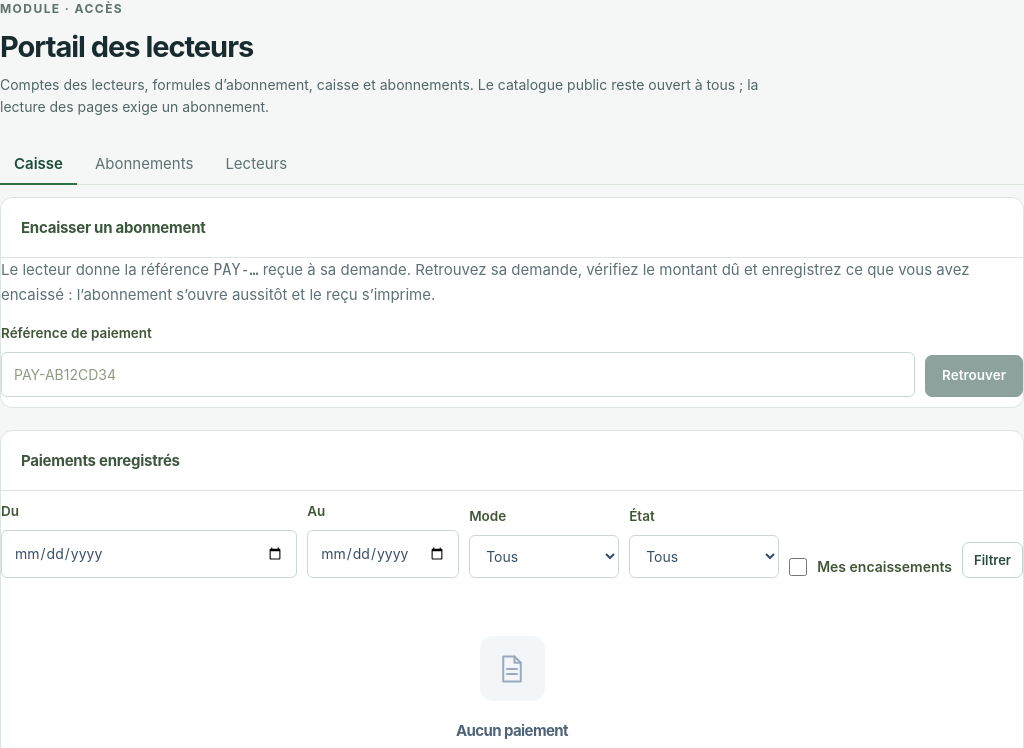
Test: la caisse refuse une référence mal écrite sans interroger le serveur, et retrouve l’abonnement par sa référence
This screenshot has width=1024, height=748.
In the field labelled "Référence de paiement": (458, 374) [1, 352, 915, 397], type "pay-123"
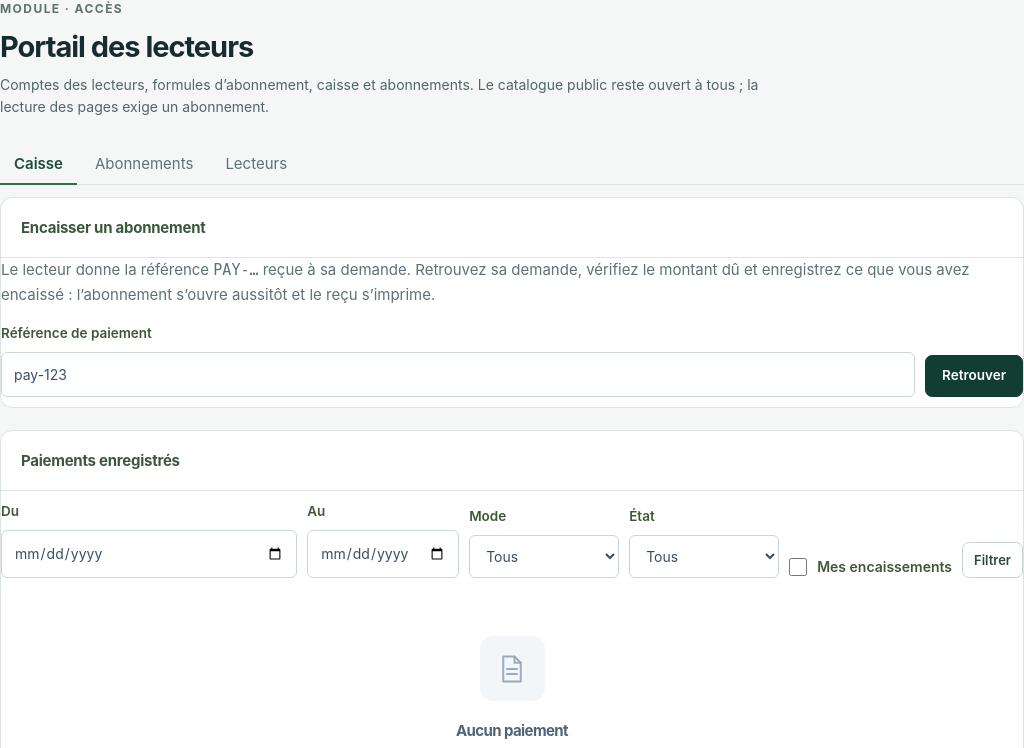
Click the button "Retrouver": (974, 376) [925, 355, 1023, 397]
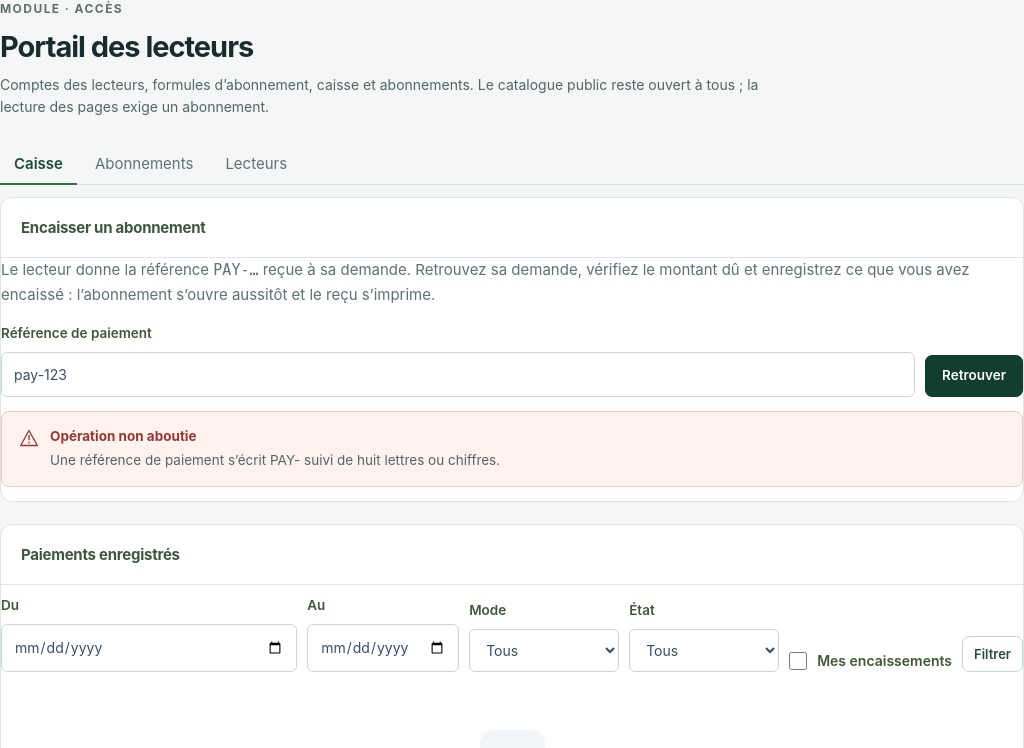
Expected: the text "PAY- suivi de huit lettres ou chiffres" is shown, [50, 452, 500, 468]
Replace the text in the field labelled "Référence de paiement" with " pay-abcdefgh ": (458, 374) [1, 352, 915, 397]
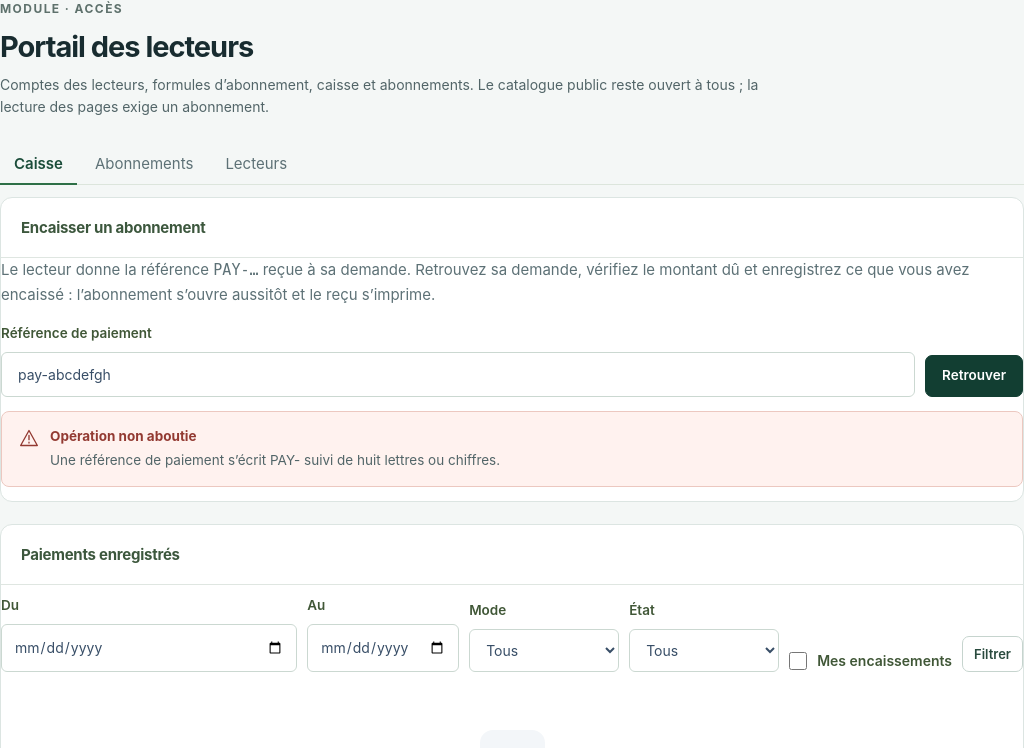
Click the button "Retrouver": (974, 376) [925, 355, 1023, 397]
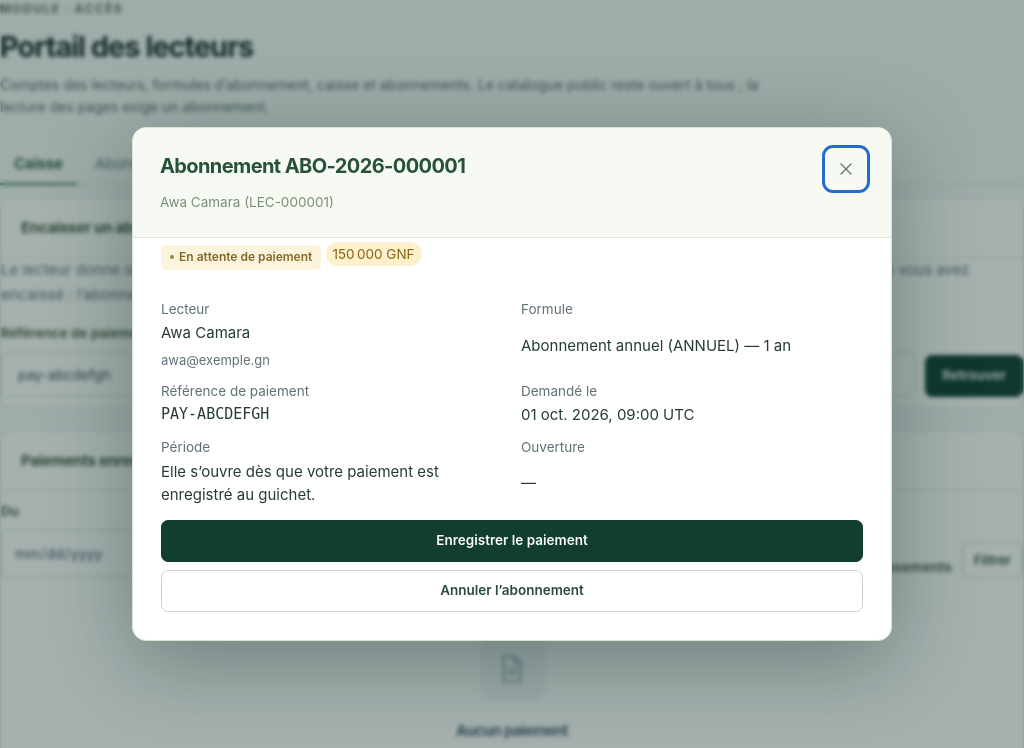
Expected: the heading "Abonnement ABO-2026-000001" is shown, [160, 151, 465, 182]
Expected: the button "Enregistrer le paiement" is shown, [161, 520, 863, 562]
